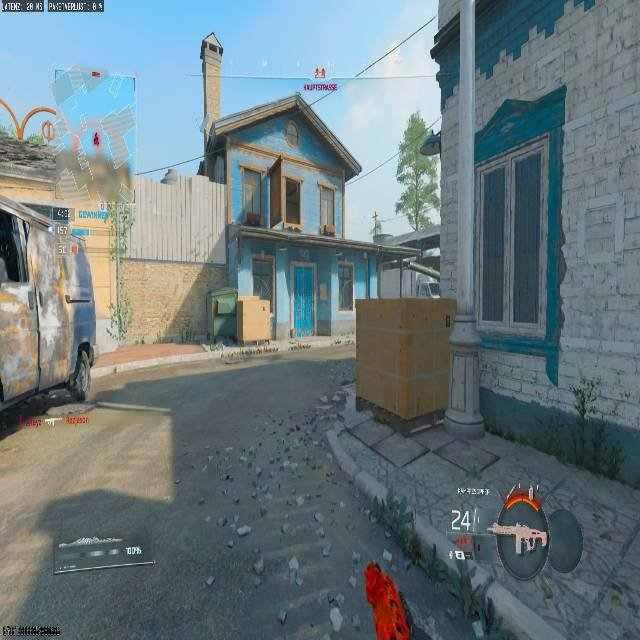player: (71, 337, 97, 399)
